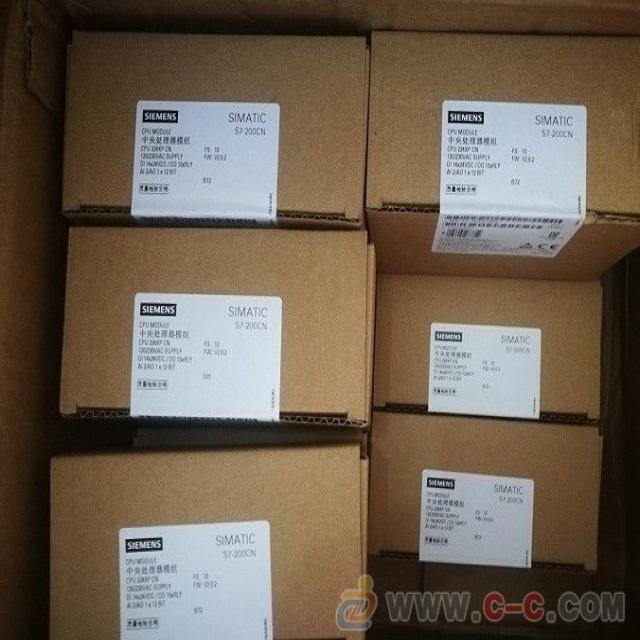box: (363, 33, 639, 280), (60, 217, 378, 427), (49, 436, 366, 639), (62, 35, 372, 226), (363, 411, 601, 571), (370, 276, 603, 422), (134, 420, 369, 453)
